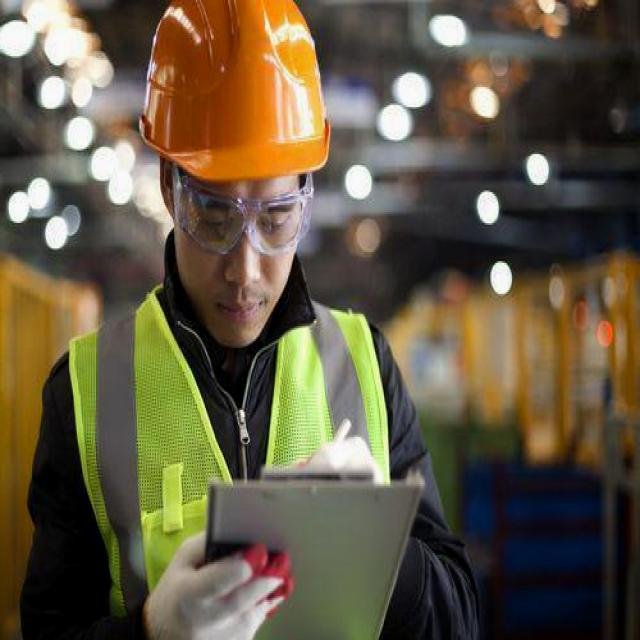face_nomask: (175, 172, 315, 339)
glasses: (173, 173, 316, 257)
head_helmet: (148, 6, 338, 166)
person: (38, 4, 424, 624)
vest: (74, 283, 388, 600)
